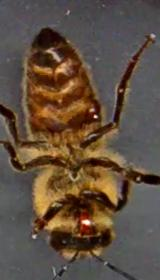varroa_mite: (80, 96, 108, 126)
